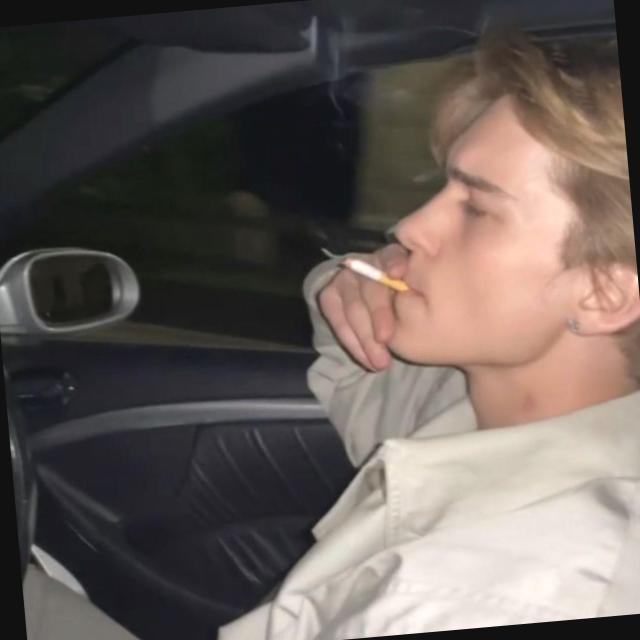smoke: (324, 244, 423, 312)
